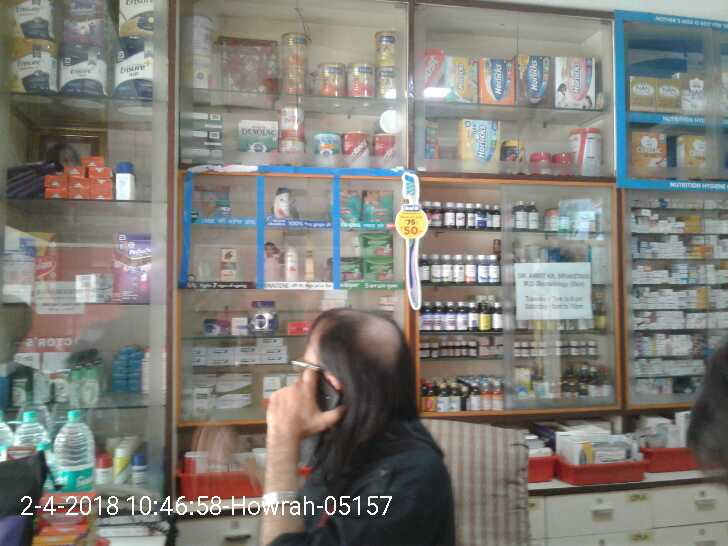vicks: (214, 200, 234, 212)
